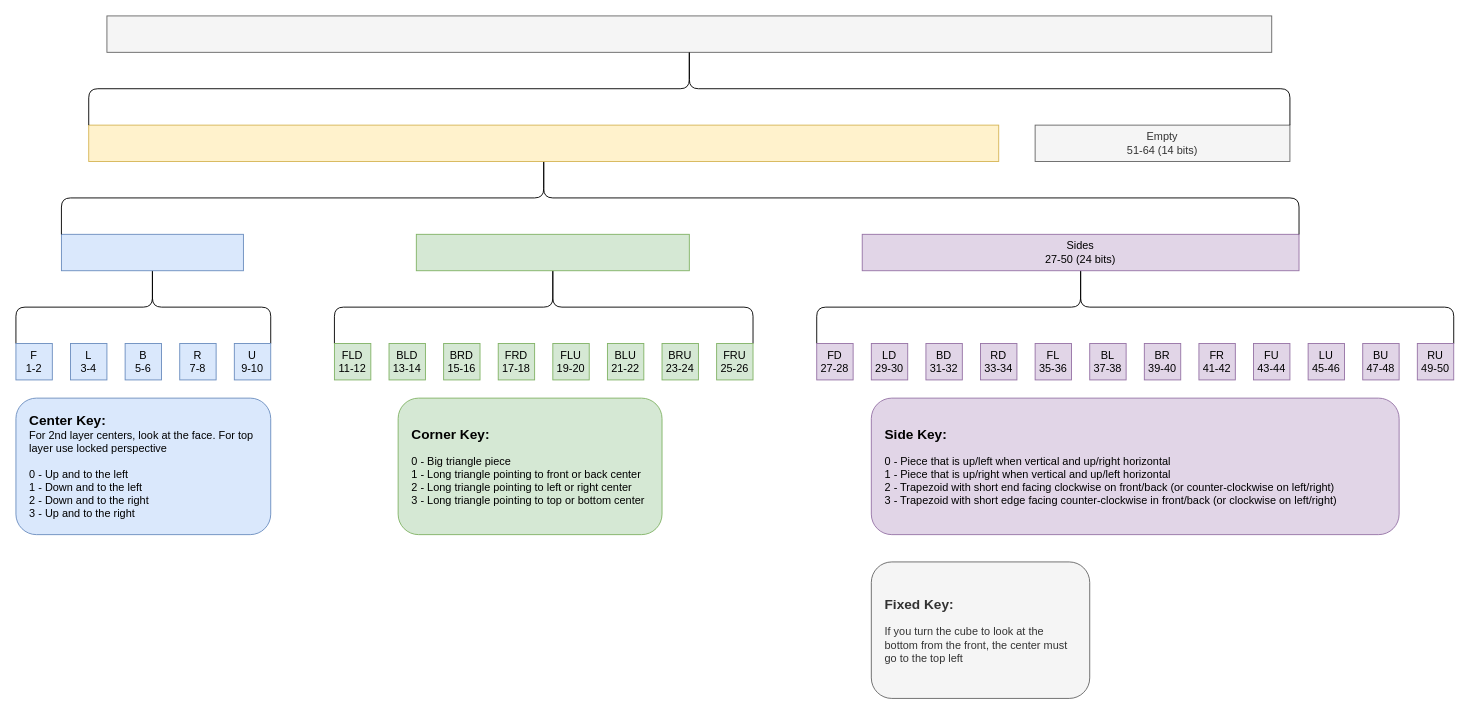
This 1471x714 diagram has some shape labels left out. Each missing label, with the box of its shape:
64 bit integer: (106, 15, 1272, 52)
Centers 1-10 (10 bits): (61, 233, 243, 271)
Corners 11-26 (16 bits): (415, 233, 689, 271)
Used 1-50 (50 bits): (88, 124, 999, 162)
